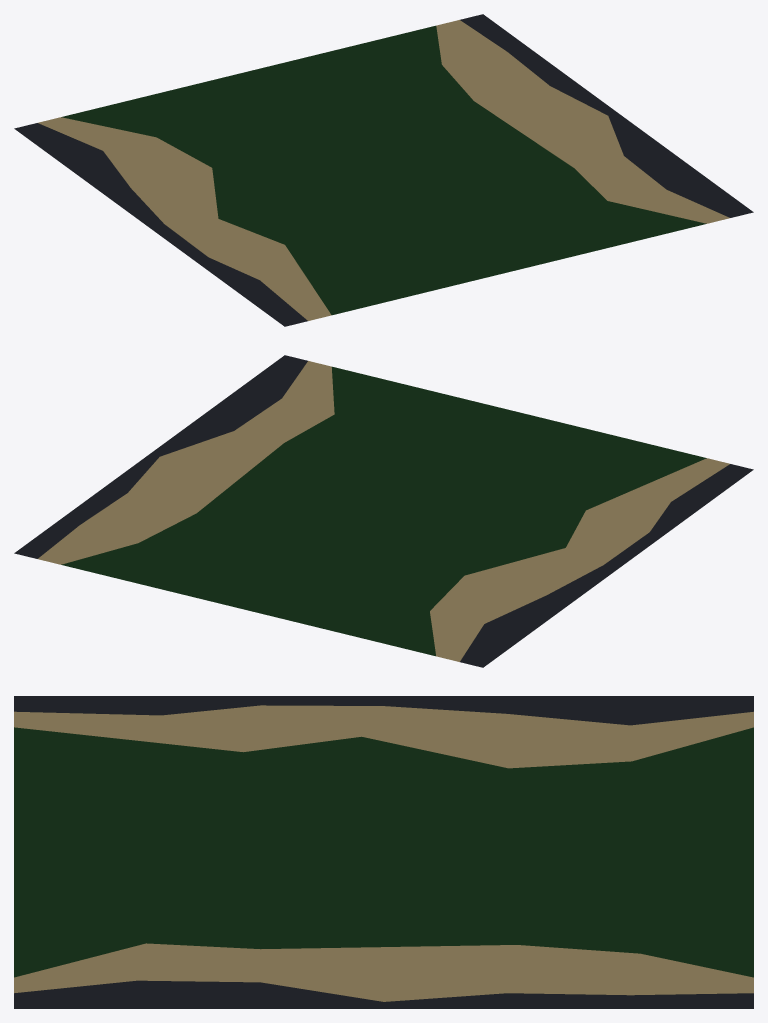
The model's file is terrain_plains_neck2.fbx.
The picture shows the model from 3 angles, top to bottom: view 1: azimuth 30°, elevation 25°; view 2: azimuth 150°, elevation 25°; view 3: azimuth 270°, elevation 25°; orthographic projection. The views are drawn at different scales.
Parts seen in each view (by area): view 1: terrain_plains_neck2; view 2: terrain_plains_neck2; view 3: terrain_plains_neck2.
Boxes of the visible parts, box(x1,y1,x2,y2) form: terrain_plains_neck2: box(14, 14, 753, 326); terrain_plains_neck2: box(14, 355, 753, 667); terrain_plains_neck2: box(14, 696, 753, 1008).
Size of the model in its own units: 10 by 0 by 10.
